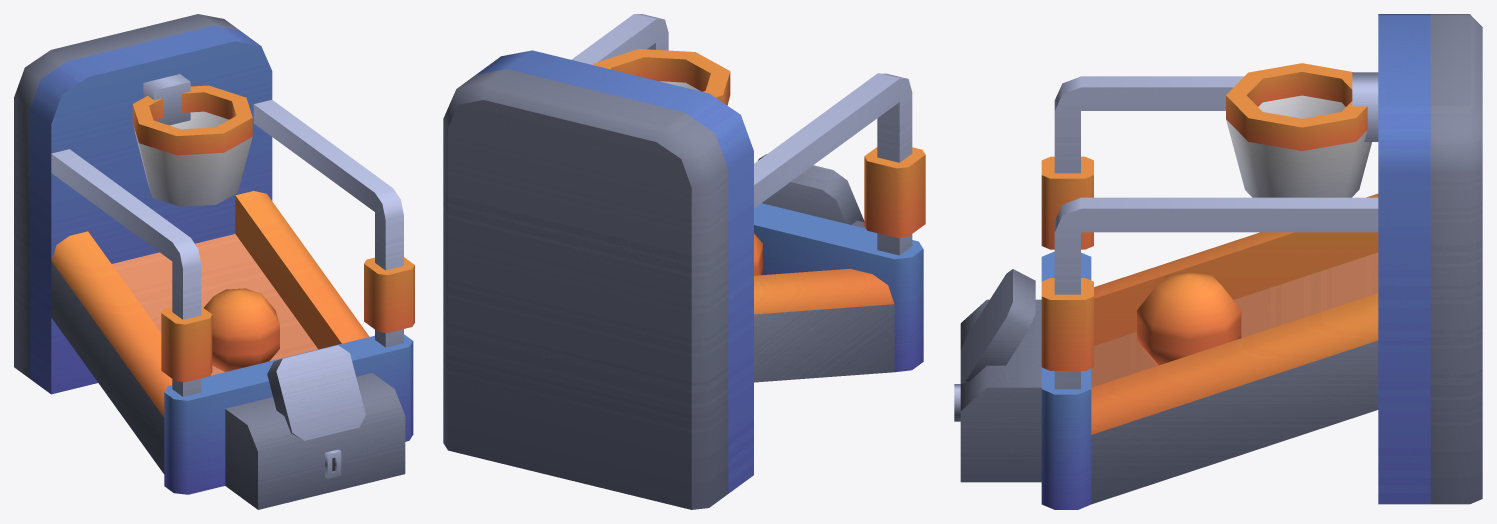
The model's file is basketball-game.glb.
3 renders of one model, left to right at view 1: azimuth 30°, elevation 25°; view 2: azimuth 150°, elevation 25°; view 3: azimuth 270°, elevation 25°, orthographic. The views are drawn at different scales.
Visible parts, largest first — view 1: basketball-game, basketball-game.001; view 2: basketball-game; view 3: basketball-game, basketball-game.001.
Boxes of the visible parts, x1=… form: basketball-game: x1=14, y1=14, x2=414, y2=509; basketball-game.001: x1=204, y1=288, x2=279, y2=371; basketball-game: x1=443, y1=14, x2=925, y2=509; basketball-game: x1=954, y1=14, x2=1482, y2=509; basketball-game.001: x1=1137, y1=271, x2=1241, y2=365.
Bounding box in the file's own units: 1.95 × 2.4 × 3.04.
1 material, 1 textured.
